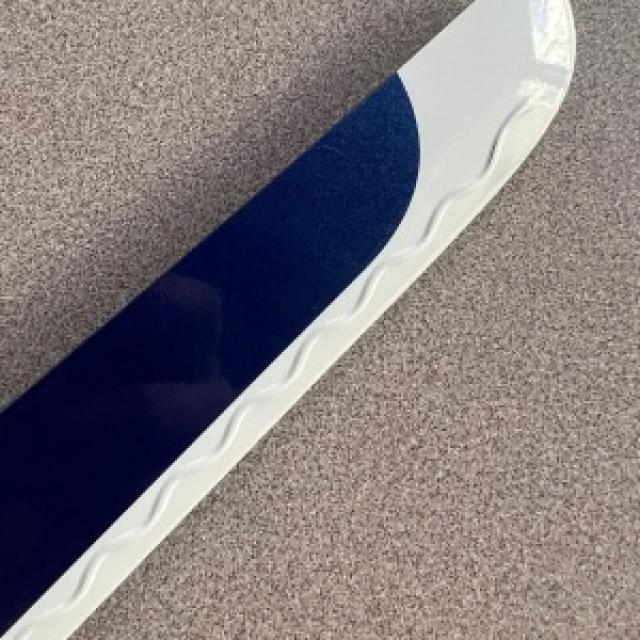healthy: (0, 0, 567, 638)
